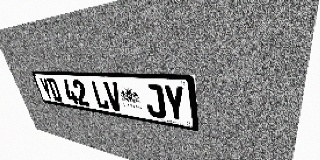2: (71, 79, 90, 106)
4: (61, 79, 79, 105)
D: (46, 78, 63, 102)
J: (143, 84, 166, 119)
L: (90, 80, 110, 110)
V: (103, 81, 124, 112)
Y: (162, 85, 187, 122), (38, 77, 54, 100)
